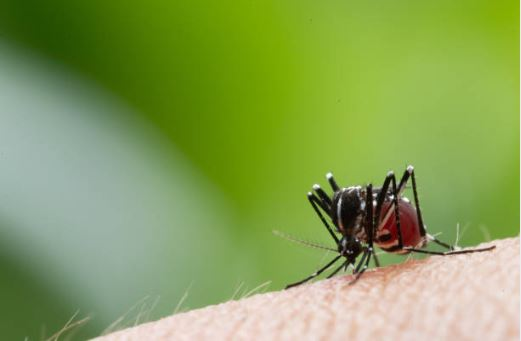dengue_mosquito: (272, 165, 502, 289)
